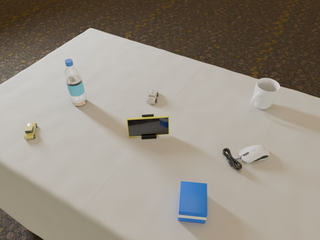bottle: (65, 59, 87, 106)
box: (178, 181, 207, 223)
cup: (250, 78, 280, 109)
mouse: (239, 145, 270, 163)
phone: (127, 116, 169, 137)
toy_car: (24, 123, 37, 139), (147, 90, 159, 104)
